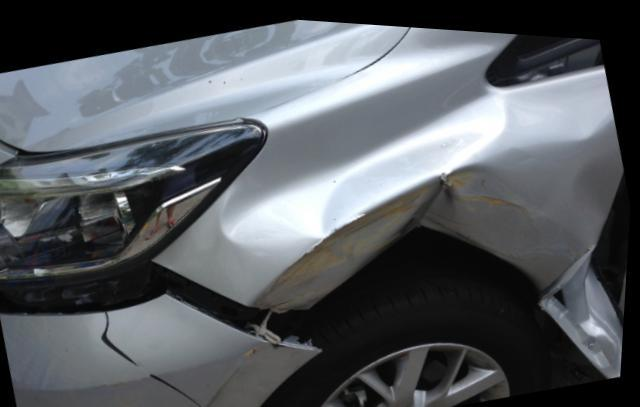dent: (224, 56, 623, 251)
dislocated part: (0, 257, 321, 350), (552, 147, 632, 322)
scratch: (257, 177, 426, 304), (105, 308, 246, 407)
